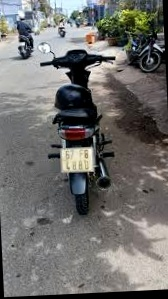Bien-so: (60, 152, 97, 177)
